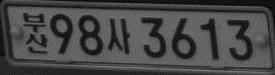1: (199, 17, 224, 60)
3: (140, 16, 166, 58), (227, 19, 253, 60)
6: (170, 17, 197, 59)
8: (77, 14, 104, 56)
9: (49, 13, 73, 54)
부산_V: (22, 11, 48, 53)
사: (107, 17, 130, 55)
